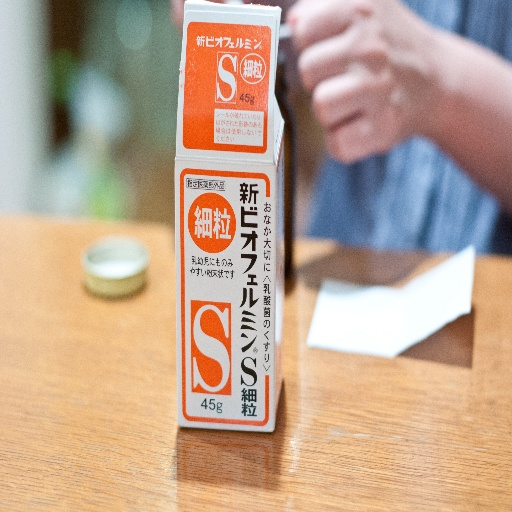hand: (283, 17, 488, 170)
